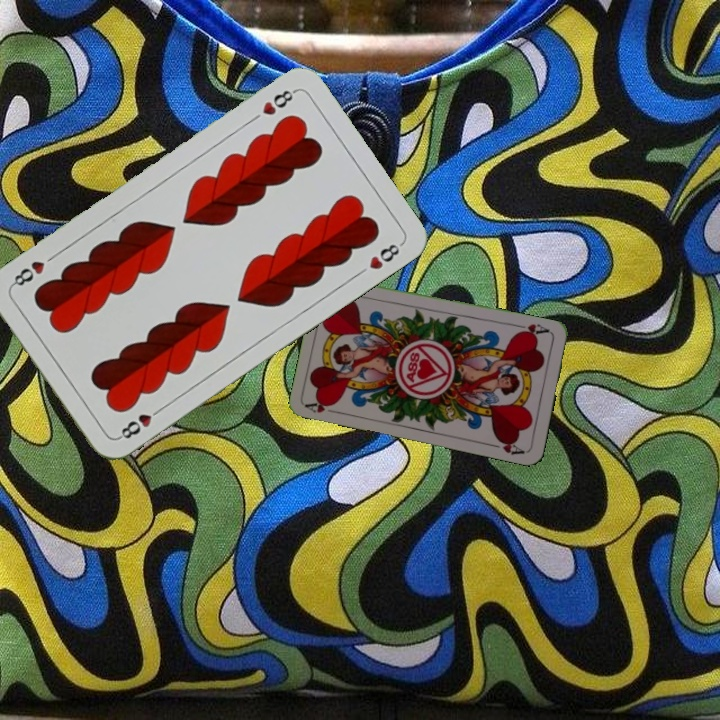H8: (114, 403, 166, 442), (258, 85, 299, 118)
HA: (303, 396, 343, 416), (512, 320, 553, 339)
